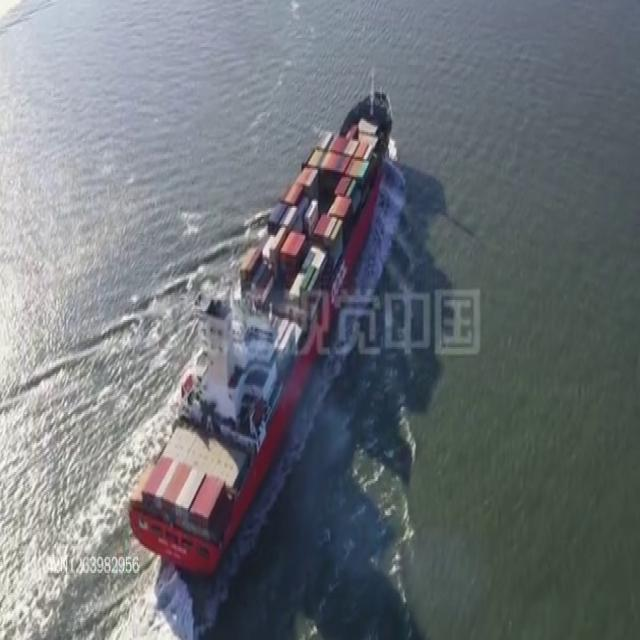cargoship: (124, 72, 398, 564)
